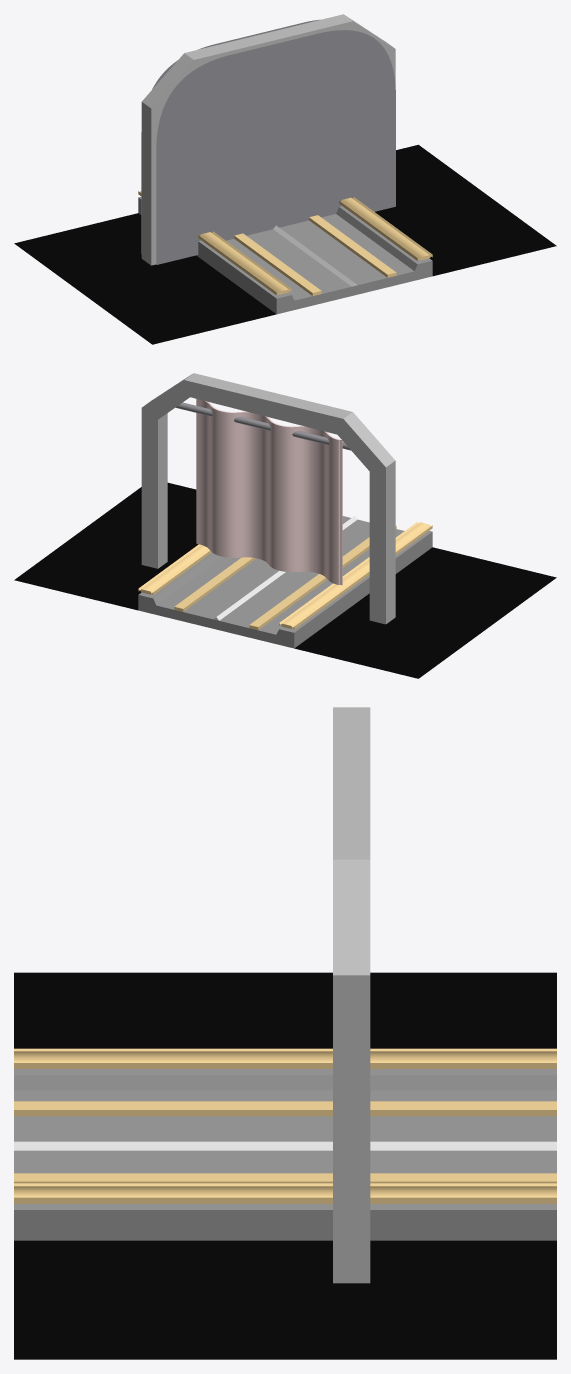
Rendered from station__message--bericht.glb.
3 renders of one model, top to bottom at view 1: azimuth 30°, elevation 25°; view 2: azimuth 150°, elevation 25°; view 3: azimuth 270°, elevation 25°, orthographic. The views are drawn at different scales.
Parts seen in each view (by area): view 1: lottie_front, _basefloor, road, Boolean, road__top--left, road__top--right, road__rail--left, road__rail--right, road__rail--middle, lottie_back; view 2: _basefloor, douche__gordijn, Boolean, road, road__top--left, road__rail--left, road__top--right, road__rail--right, gordijn__holder, road__rail--middle; view 3: _basefloor, road, Boolean, road__top--left, road__top--right, road__rail--left, road__rail--right, road__rail--middle.
Part boxes in pixels (x1,y1,x2,y2): lottie_front: (156, 30, 395, 264); _basefloor: (14, 144, 556, 344); road: (138, 197, 432, 314); Boolean: (141, 14, 395, 265); road__top--left: (138, 191, 291, 295); road__top--right: (339, 197, 432, 260); road__rail--left: (234, 233, 321, 295); road__rail--right: (309, 215, 396, 277); road__rail--middle: (273, 225, 357, 286); lottie_back: (141, 19, 320, 253); _basefloor: (14, 482, 556, 678); douche__gordijn: (196, 399, 342, 585); Boolean: (141, 373, 395, 624); road: (138, 516, 432, 648); road__top--left: (279, 522, 432, 629); road__rail--left: (249, 526, 396, 630); road__top--right: (138, 544, 211, 594); road__rail--right: (174, 557, 256, 611); gordijn__holder: (175, 402, 350, 450); road__rail--middle: (213, 516, 357, 620); _basefloor: (14, 972, 556, 1359); road: (14, 1069, 556, 1240); Boolean: (333, 707, 370, 1283); road__top--left: (14, 1048, 556, 1068); road__top--right: (14, 1183, 556, 1203); road__rail--left: (14, 1101, 556, 1116); road__rail--right: (14, 1173, 556, 1183); road__rail--middle: (14, 1141, 556, 1150).
Bounding box in the file's own units: 10.8 × 4.98 × 6.4.
